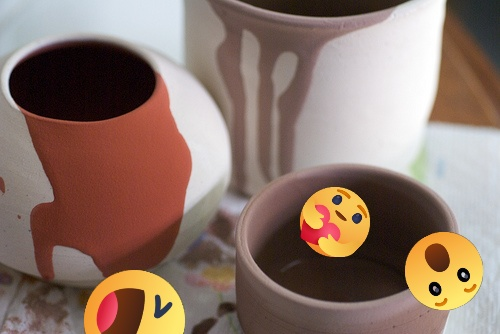care: (300, 187, 370, 257)
haha: (84, 270, 185, 334)
wow: (405, 232, 483, 310)
